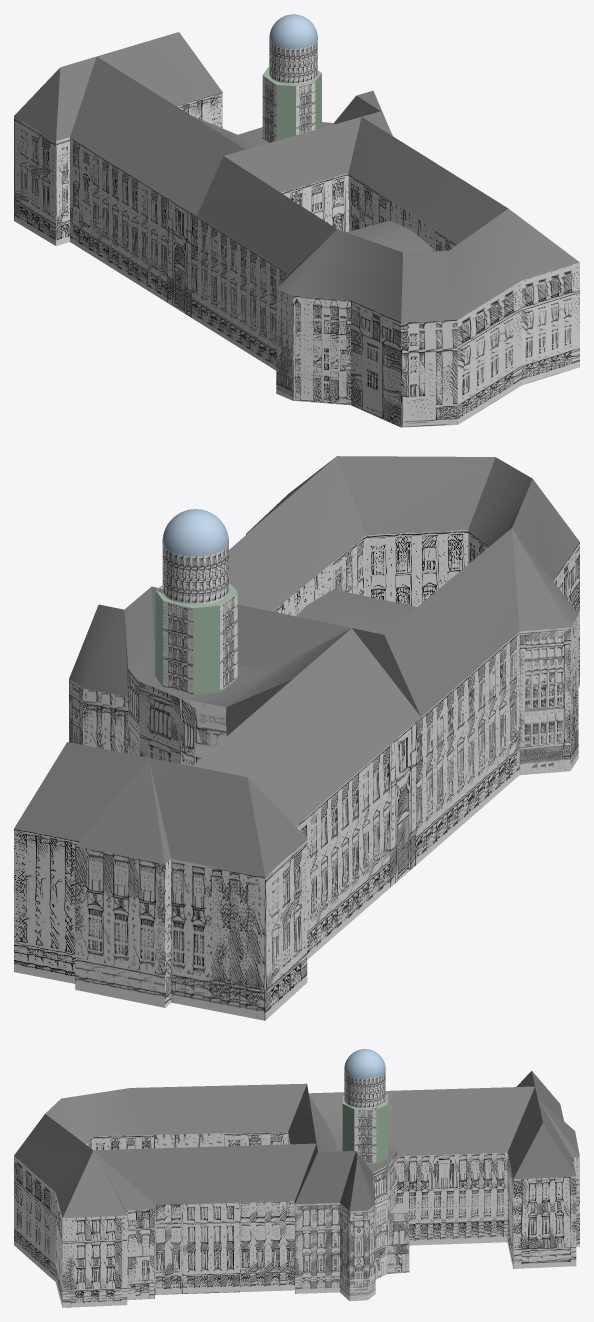
File: Beyer-Bau.gltf
3 renders of one model, top to bottom at view 1: azimuth 30°, elevation 25°; view 2: azimuth 150°, elevation 25°; view 3: azimuth 270°, elevation 25°, orthographic. The views are drawn at different scales.
Visible parts, largest first — view 1: Dach.1; view 2: Dach.1; view 3: Dach.1.
Part boxes in pixels (left/top/right/bottom): Dach.1: left=14, top=14, right=579, bottom=427; Dach.1: left=14, top=456, right=579, bottom=1020; Dach.1: left=14, top=1049, right=579, bottom=1307.
Size of the model in its own units: 53.42 by 46.06 by 112.
34 materials, 30 textured.
